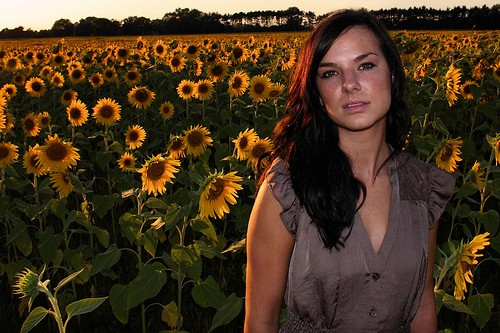flower: (197, 167, 245, 219), (138, 151, 181, 196), (34, 133, 81, 173), (180, 123, 215, 158), (432, 136, 464, 174), (230, 126, 258, 162), (91, 96, 122, 127), (128, 85, 158, 112), (64, 98, 91, 127), (225, 69, 251, 98), (122, 123, 147, 150), (249, 73, 271, 103), (192, 77, 217, 101), (22, 78, 49, 99), (21, 111, 41, 137), (175, 80, 198, 102), (158, 100, 176, 120)
